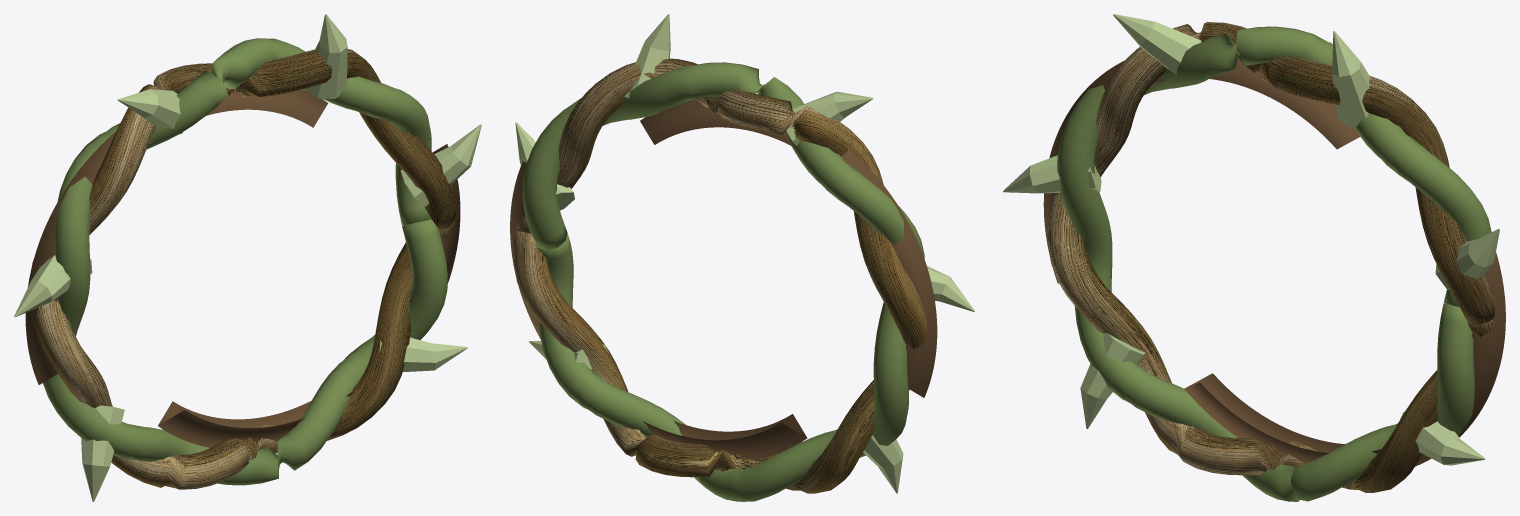
File: thorn_ring.glb
3 views of the same model, side by side, from view 1: azimuth 30°, elevation 25°; view 2: azimuth 150°, elevation 25°; view 3: azimuth 330°, elevation 25° (orthographic). The views are drawn at different scales.
Visible parts, largest first — view 1: ThornRing; view 2: ThornRing; view 3: ThornRing.
Boxes of the visible parts, <box> form: ThornRing: <box>14,14,481,501</box>; ThornRing: <box>510,14,974,501</box>; ThornRing: <box>1003,14,1505,501</box>.
Size of the model in its own units: 0.7017 by 0.6639 by 0.0925.
4 materials, 1 textured.
